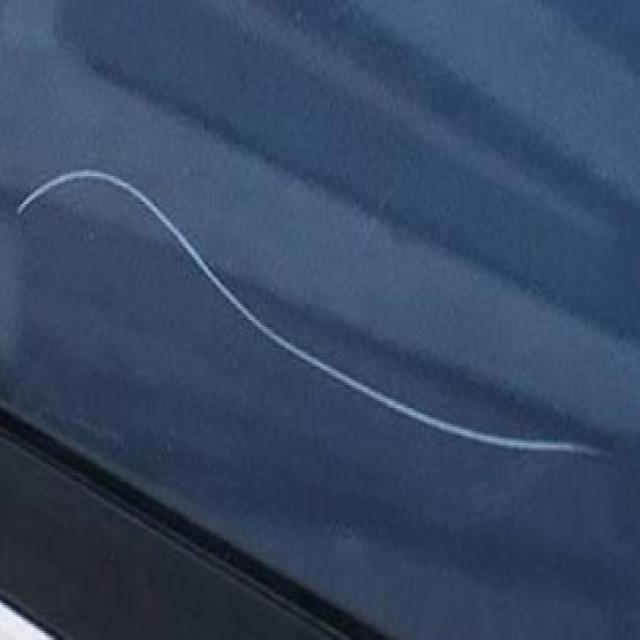scratch: (11, 156, 602, 458)
